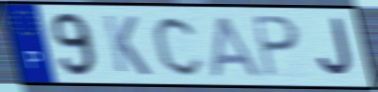9: (51, 11, 99, 79)
A: (209, 14, 264, 79)
C: (151, 13, 207, 78)
J: (315, 17, 356, 80)
K: (100, 13, 154, 78)
P: (249, 14, 303, 81)
